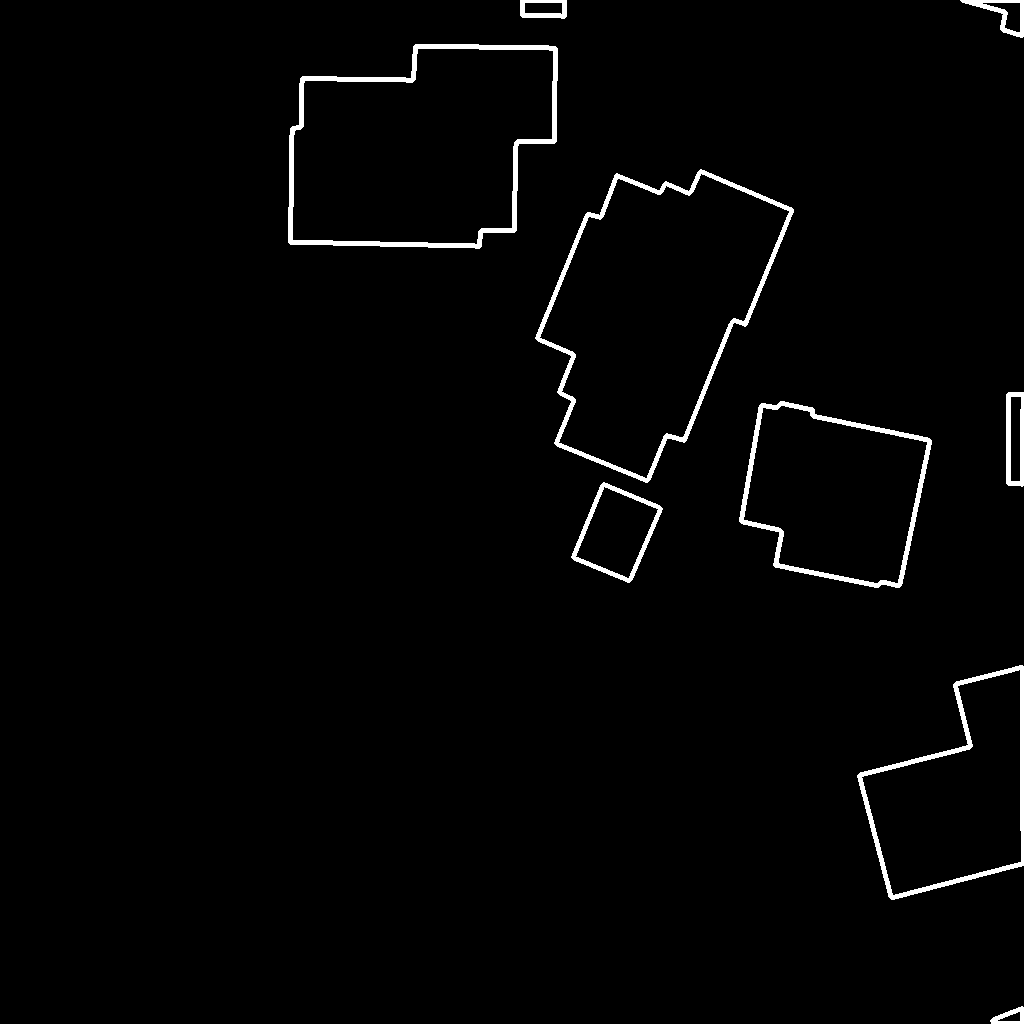building: (537, 171, 793, 482), (290, 46, 557, 247), (859, 667, 1024, 899), (741, 403, 931, 587), (573, 484, 662, 582), (960, 0, 1024, 37), (1008, 394, 1024, 485), (522, 0, 566, 17), (992, 1008, 1024, 1024)
